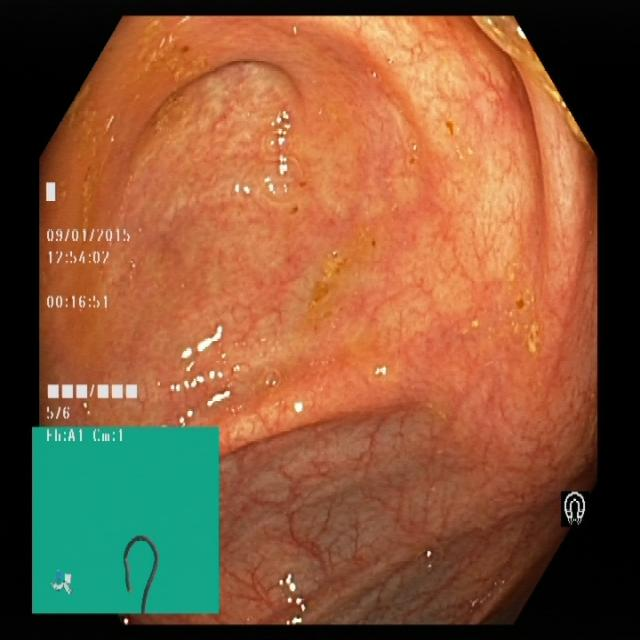normal-cecum: (36, 16, 223, 340), (476, 279, 569, 376), (299, 234, 366, 326)
